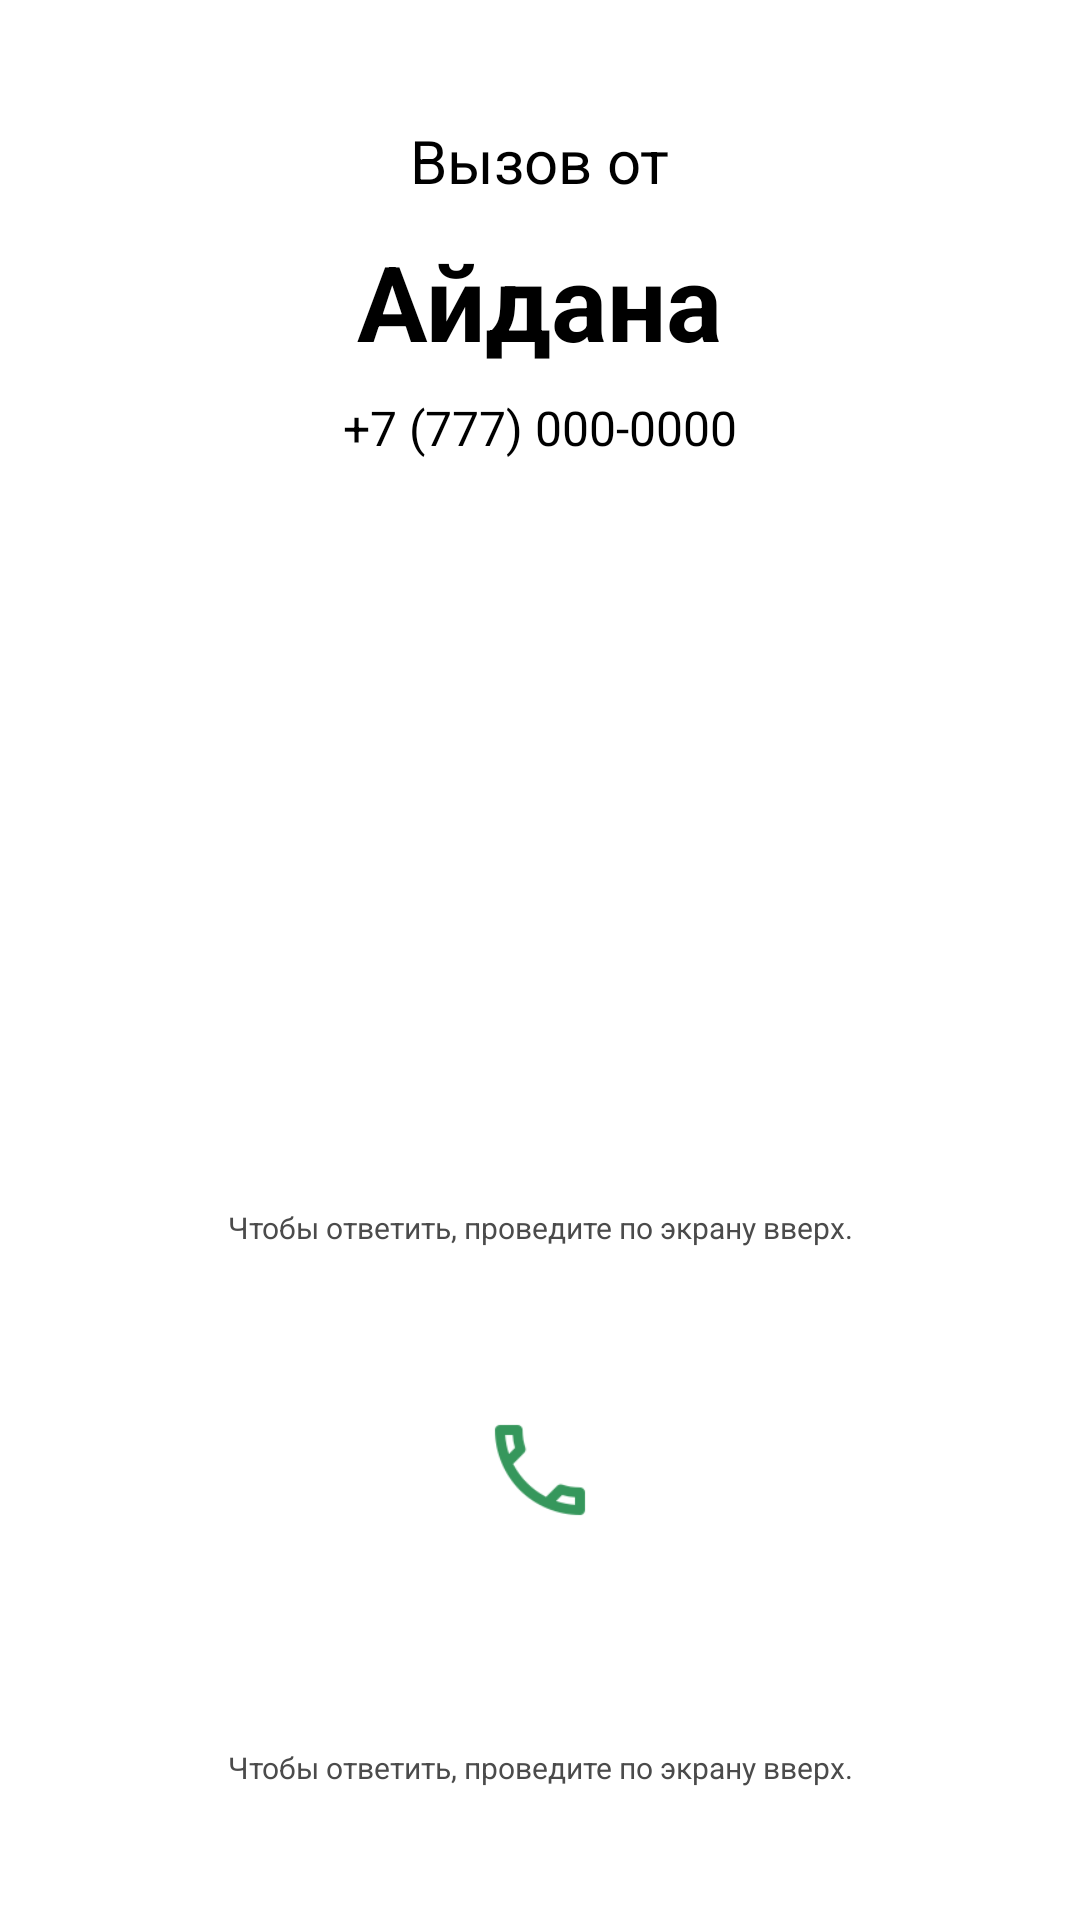

Icon click points for this 1080×1920 phone screenshot, format (x,y):
Принять: (540,1470)
